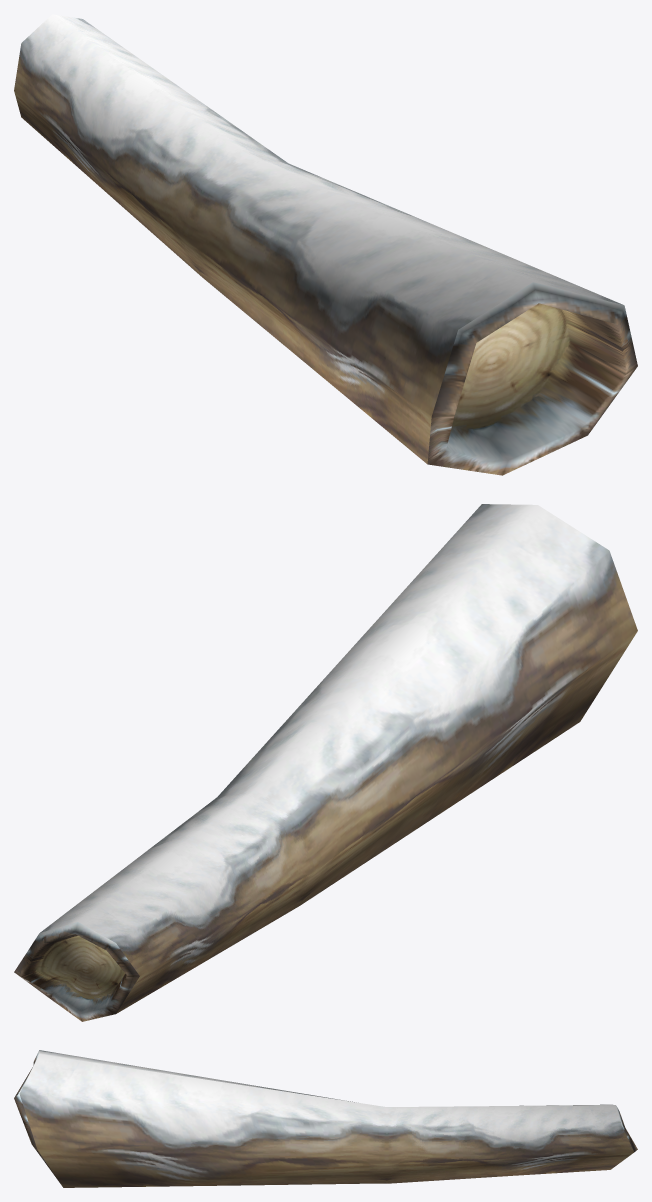
Rendered from winterspringfallentree02.obj.
The picture shows the model from 3 angles, top to bottom: view 1: azimuth 30°, elevation 25°; view 2: azimuth 150°, elevation 25°; view 3: azimuth 270°, elevation 25°; orthographic projection. The views are drawn at different scales.
Visible parts, largest first — view 1: WINTERSPRINGFALLENTREE020, WINTERSPRINGFALLENTREE021; view 2: WINTERSPRINGFALLENTREE020, WINTERSPRINGFALLENTREE021; view 3: WINTERSPRINGFALLENTREE020, WINTERSPRINGFALLENTREE021.
Part boxes in pixels (bbox=[...]): WINTERSPRINGFALLENTREE020: bbox=[14, 14, 622, 464]; WINTERSPRINGFALLENTREE021: bbox=[427, 282, 637, 475]; WINTERSPRINGFALLENTREE020: bbox=[40, 504, 637, 1013]; WINTERSPRINGFALLENTREE021: bbox=[14, 922, 139, 1021]; WINTERSPRINGFALLENTREE020: bbox=[19, 1050, 634, 1187]; WINTERSPRINGFALLENTREE021: bbox=[14, 1050, 637, 1183].
Size of the model in its own units: 2.96 by 2.96 by 12.95.
2 materials, 2 textured.
